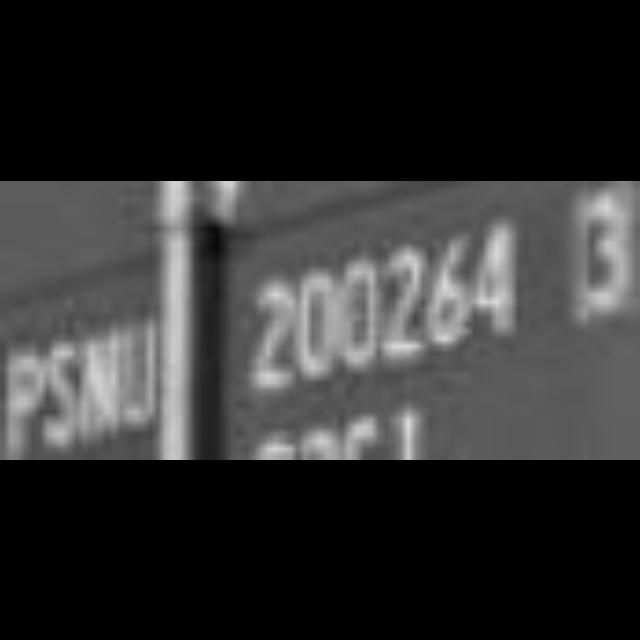0: (296, 252, 338, 391), (339, 245, 381, 381)
2: (382, 231, 424, 377), (250, 270, 296, 392)
3: (574, 180, 640, 334)
4: (470, 218, 528, 342)
6: (426, 225, 474, 369)
n: (85, 318, 122, 459)
p: (0, 348, 50, 459)
s: (46, 332, 82, 460)
u: (119, 307, 159, 458)
